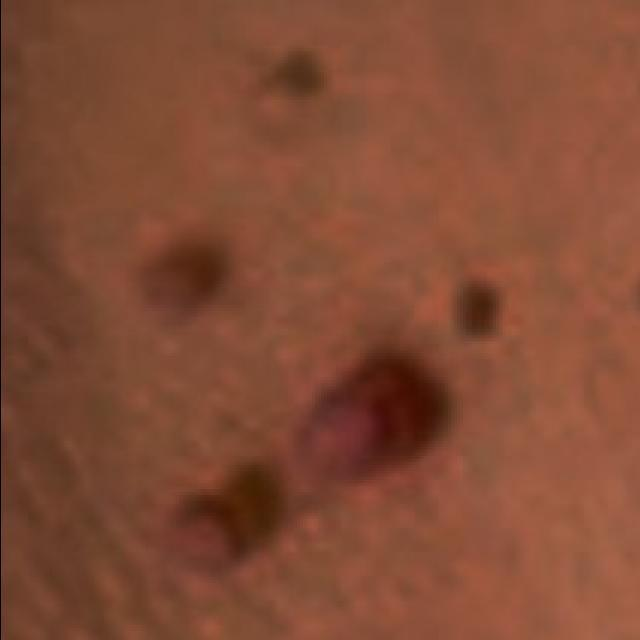wart: (302, 350, 456, 486), (163, 474, 281, 580), (248, 42, 336, 148), (142, 238, 220, 332), (449, 268, 514, 338)
